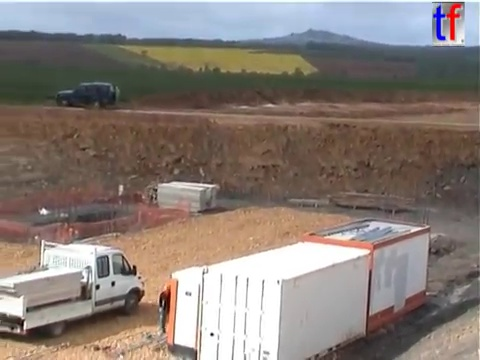truck: (1, 237, 147, 340)
